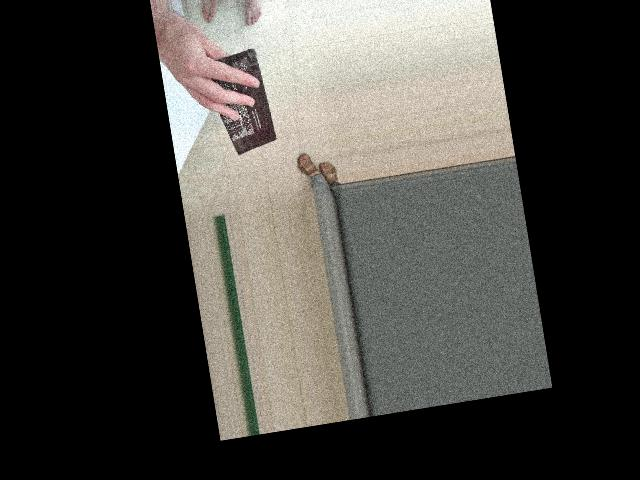chocolate: (205, 41, 281, 160)
